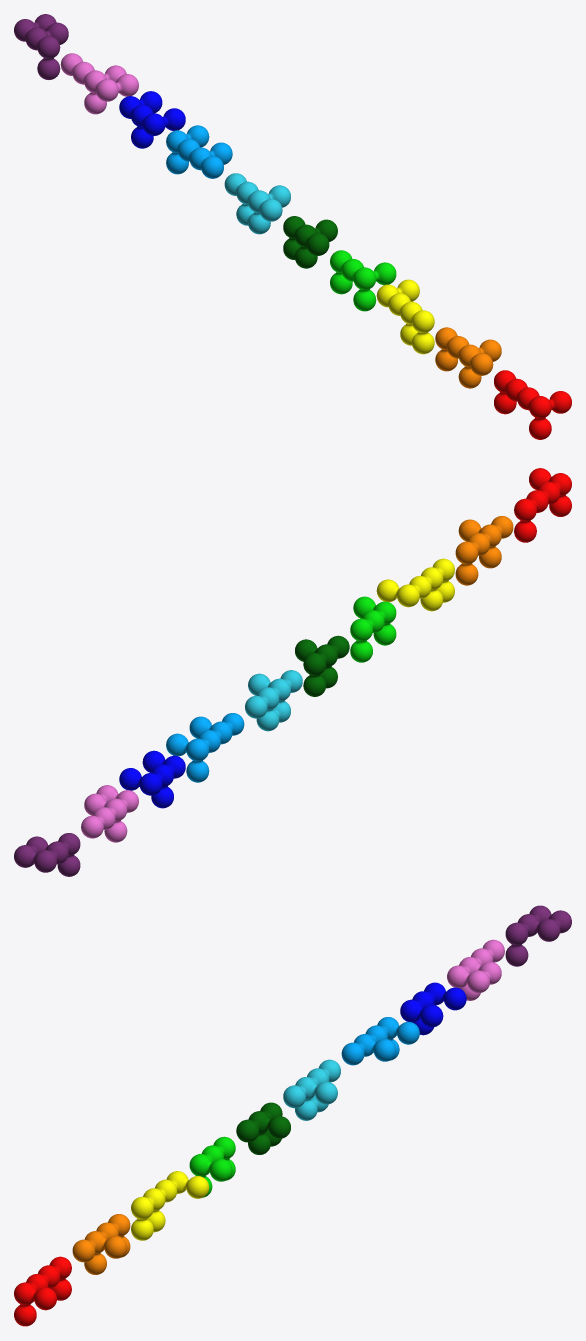
The model's file is Piece Set.fbx.
3 views of the same model, one above another, from view 1: azimuth 30°, elevation 25°; view 2: azimuth 150°, elevation 25°; view 3: azimuth 330°, elevation 25° (orthographic).
Parts seen in each view (by area): view 1: Red, Orange, Blue, Yellow, Pink, Light Blue, Lime, Dark Blue, Purple, Green; view 2: Blue, Orange, Red, Yellow, Light Blue, Pink, Lime, Dark Blue, Purple, Green; view 3: Yellow, Red, Blue, Light Blue, Orange, Purple, Pink, Dark Blue, Green, Lime.
Part boxes in pixels (x1=…): Red: x1=494, y1=370, x2=571, y2=439; Orange: x1=435, y1=327, x2=501, y2=388; Blue: x1=166, y1=125, x2=232, y2=178; Yellow: x1=376, y1=279, x2=434, y2=354; Pink: x1=60, y1=53, x2=138, y2=114; Light Blue: x1=224, y1=173, x2=290, y2=234; Lime: x1=330, y1=250, x2=396, y2=311; Dark Blue: x1=119, y1=91, x2=185, y2=148; Purple: x1=14, y1=14, x2=68, y2=79; Green: x1=283, y1=216, x2=337, y2=268; Blue: x1=166, y1=713, x2=244, y2=782; Orange: x1=455, y1=516, x2=513, y2=585; Red: x1=514, y1=468, x2=571, y2=542; Yellow: x1=376, y1=558, x2=454, y2=611; Light Blue: x1=245, y1=670, x2=302, y2=731; Pink: x1=81, y1=785, x2=138, y2=842; Lime: x1=350, y1=596, x2=396, y2=662; Dark Blue: x1=119, y1=750, x2=185, y2=808; Purple: x1=14, y1=833, x2=80, y2=876; Green: x1=295, y1=635, x2=349, y2=696; Yellow: x1=131, y1=1171, x2=209, y2=1240; Red: x1=14, y1=1256, x2=71, y2=1326; Blue: x1=341, y1=1017, x2=419, y2=1065; Light Blue: x1=283, y1=1059, x2=340, y2=1120; Orange: x1=72, y1=1214, x2=130, y2=1274; Purple: x1=505, y1=905, x2=571, y2=966; Pink: x1=447, y1=939, x2=504, y2=1000; Dark Blue: x1=400, y1=982, x2=466, y2=1035; Green: x1=236, y1=1102, x2=290, y2=1154; Lime: x1=189, y1=1136, x2=235, y2=1197.
Bounding box in the file's own units: 395 × 396 × 8995.
